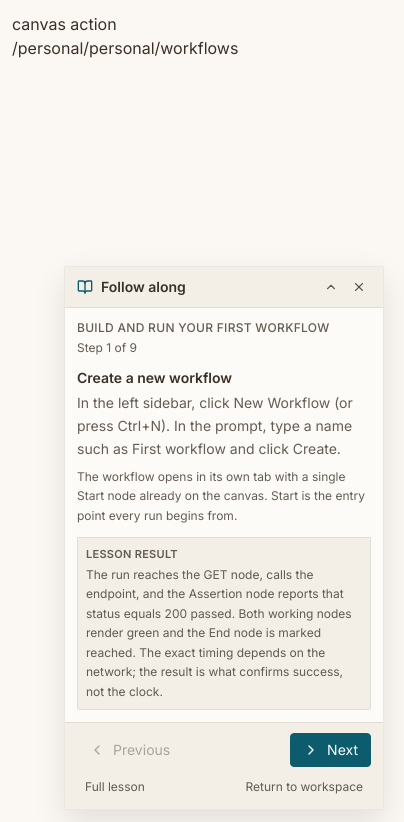
Test case: TutorialCompanionHost › advances and bounds the step within the lesson
What coordinates should you click on to do the following:
click the button "Next"
I would click on:
 (331, 750)
Its box is [290,733,371,767].
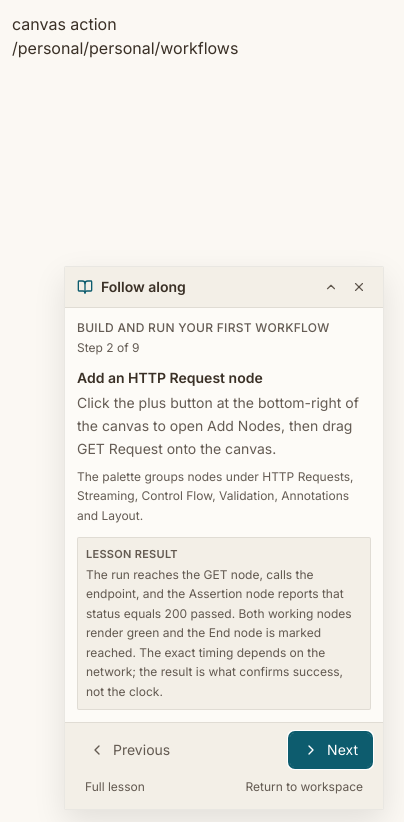
Expected: the text "Step 2 of 9" is shown, [77,340,139,355]
What coordinates should you click on to do the following:
click the button "Previous"
I would click on:
 (130, 750)
Its box is [77,734,182,766].
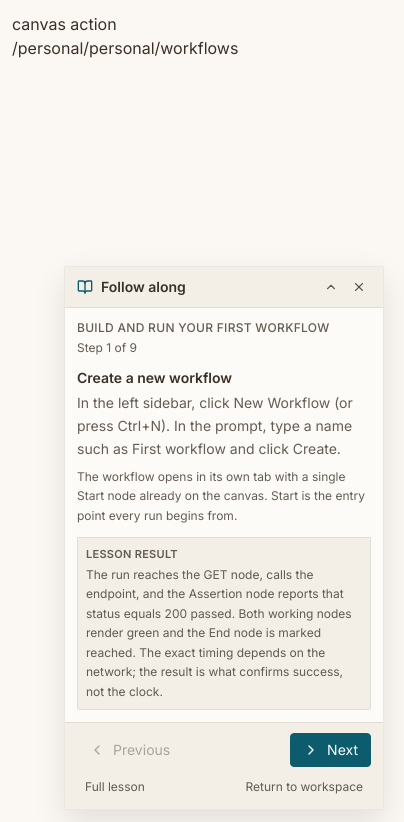
Expected: the button "Previous" is disabled, [77,734,182,766]
